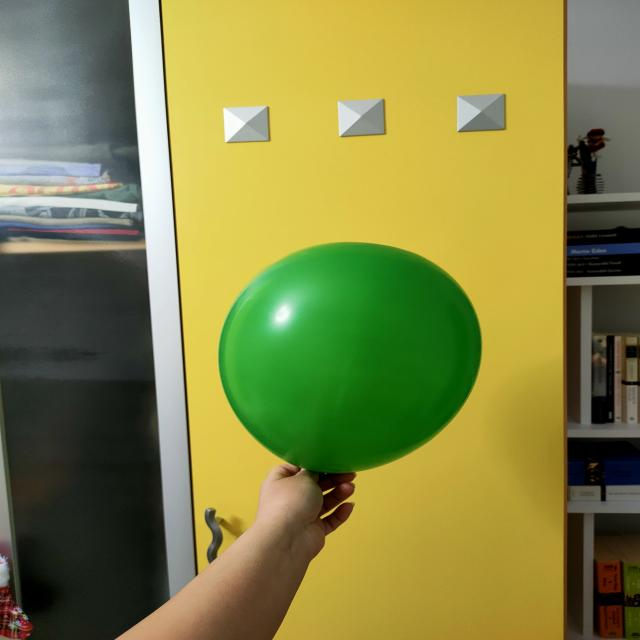green: (219, 242, 485, 479)
